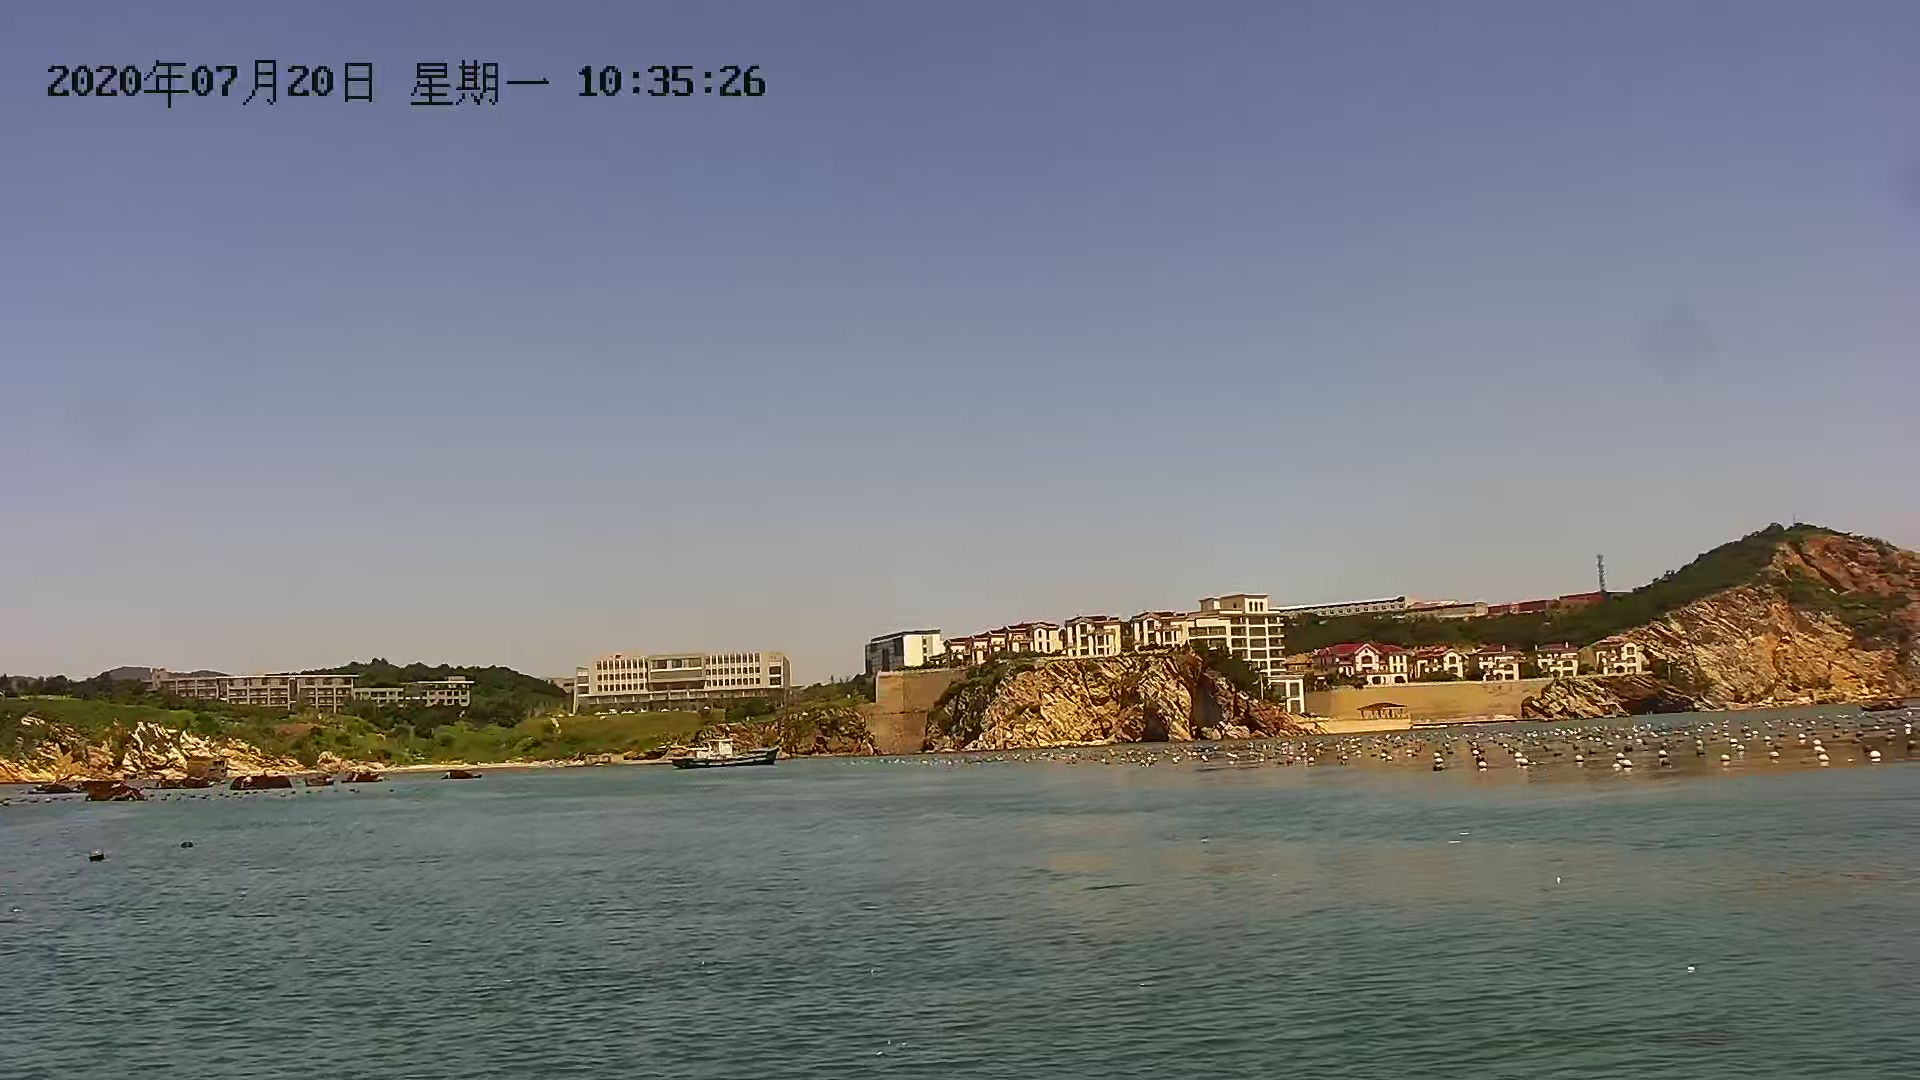boat: (667, 746, 778, 773), (88, 845, 111, 869)
rubbish: (222, 770, 297, 793), (90, 781, 149, 808), (334, 761, 386, 789), (440, 765, 485, 787)
